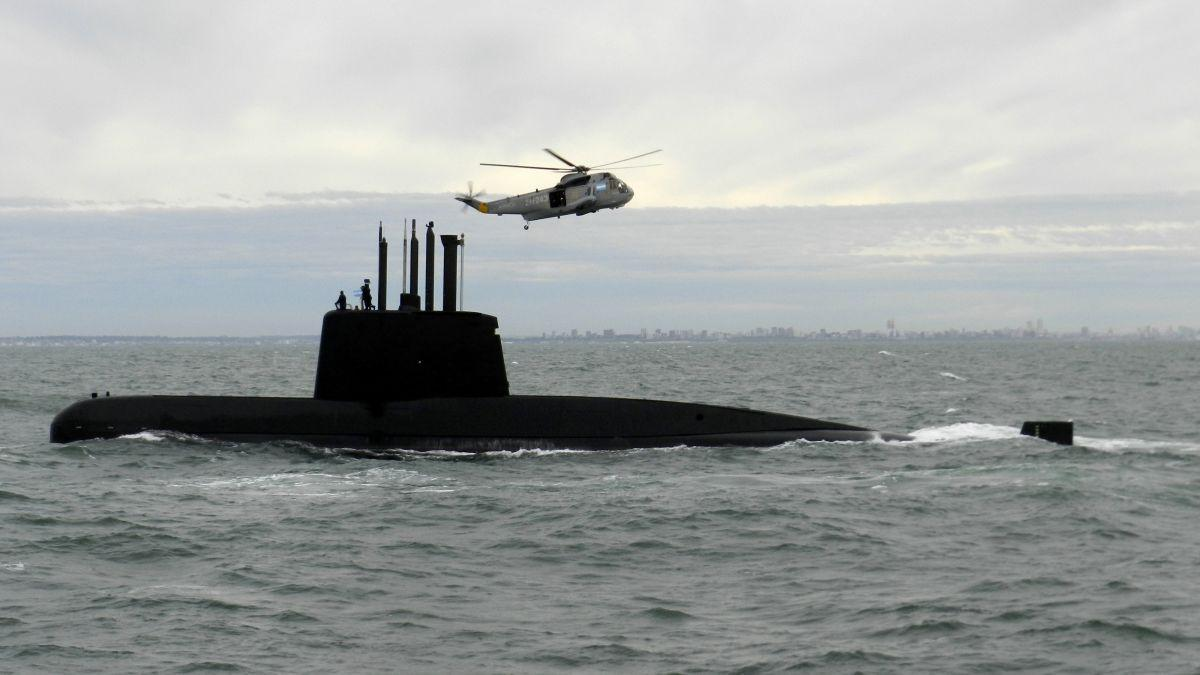Submarine: (12, 220, 1200, 583)
